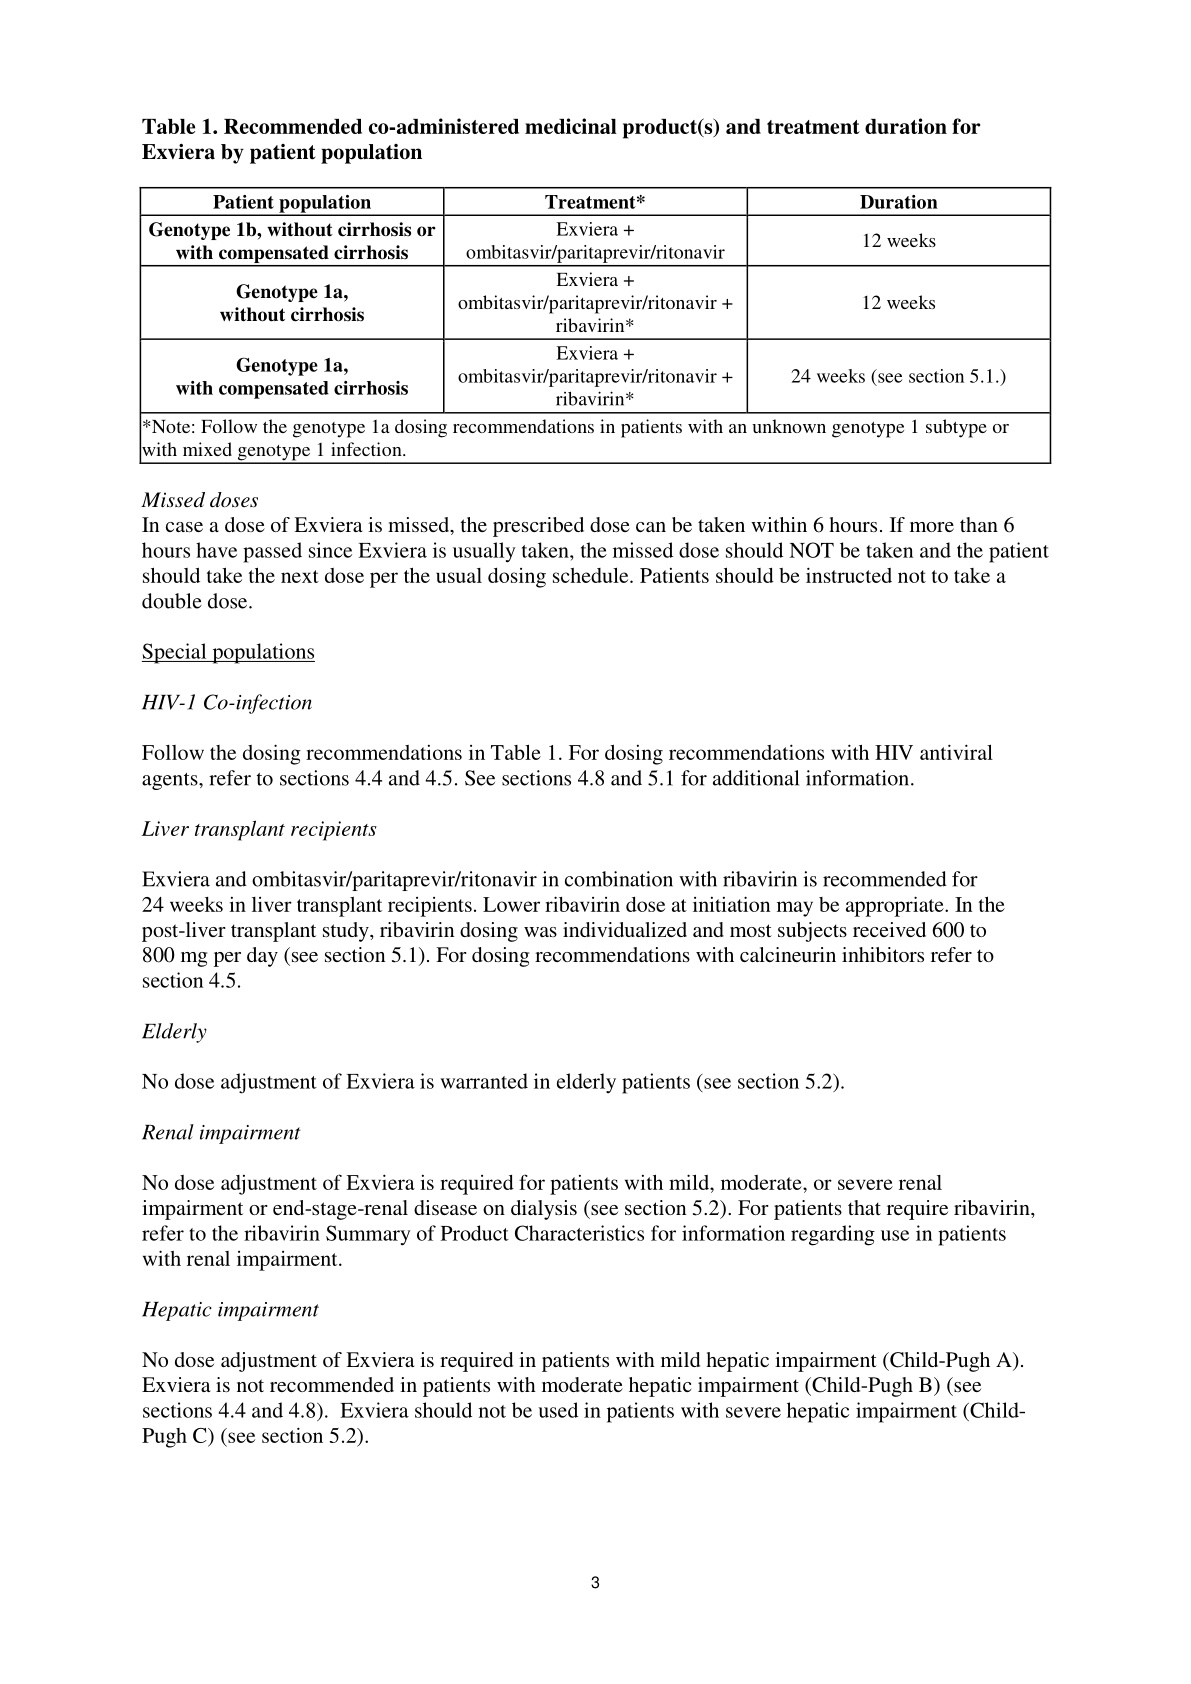merged_cells: (138, 186, 1052, 464)
